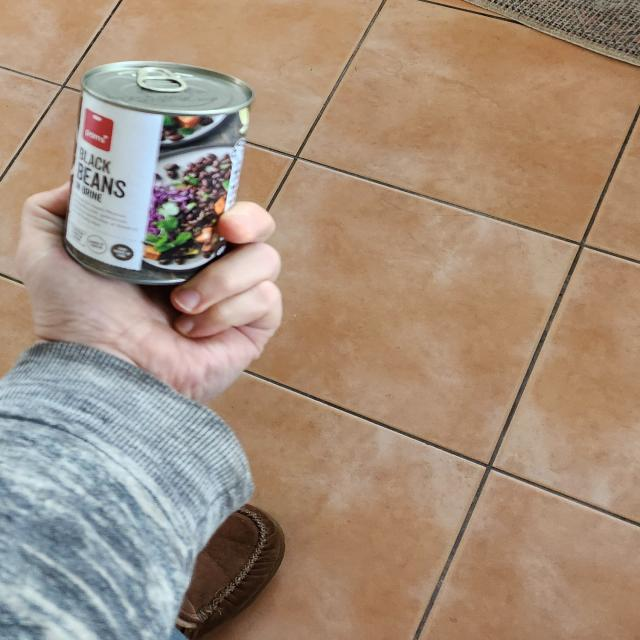black beans: (70, 54, 256, 287)
